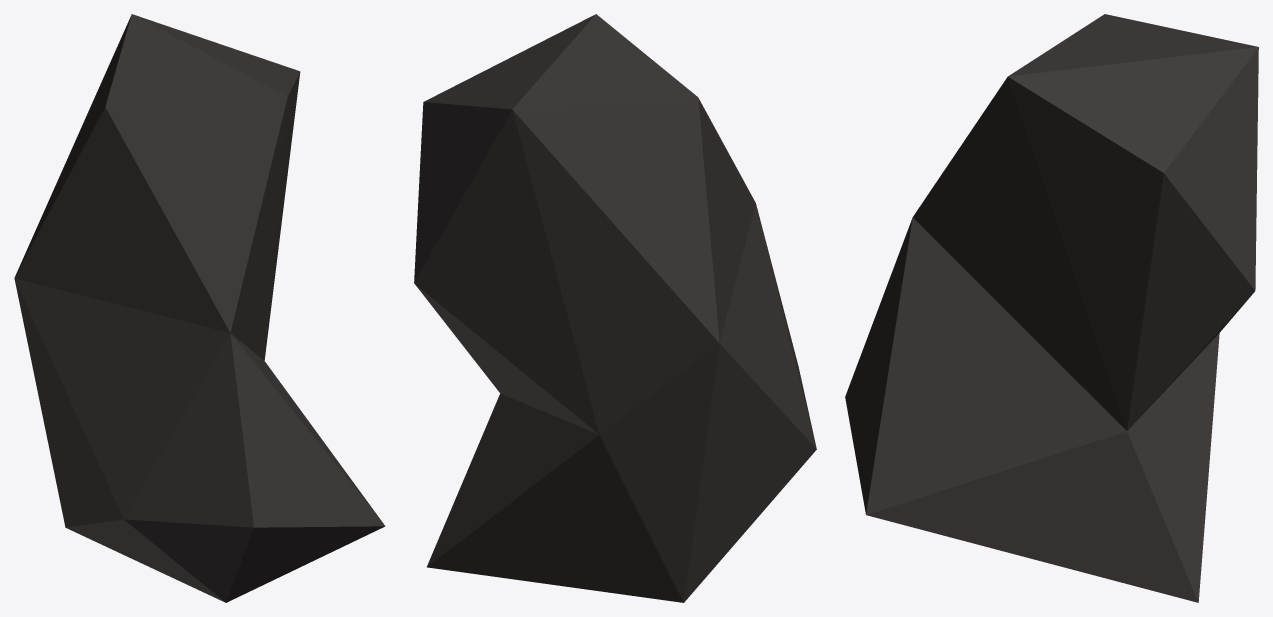
The model's file is Rock_Single_5_LOD_1.fbx.
3 renders of one model, left to right at view 1: azimuth 30°, elevation 25°; view 2: azimuth 150°, elevation 25°; view 3: azimuth 270°, elevation 25°, orthographic. The views are drawn at different scales.
Parts seen in each view (by area): view 1: Group5399; view 2: Group5399; view 3: Group5399.
Part boxes in pixels (box(x1,y1,x2,y2)): Group5399: box(14, 14, 385, 602); Group5399: box(414, 14, 816, 602); Group5399: box(845, 14, 1258, 602).
Size of the model in its own units: 0.7969 by 1.27 by 0.9504.
